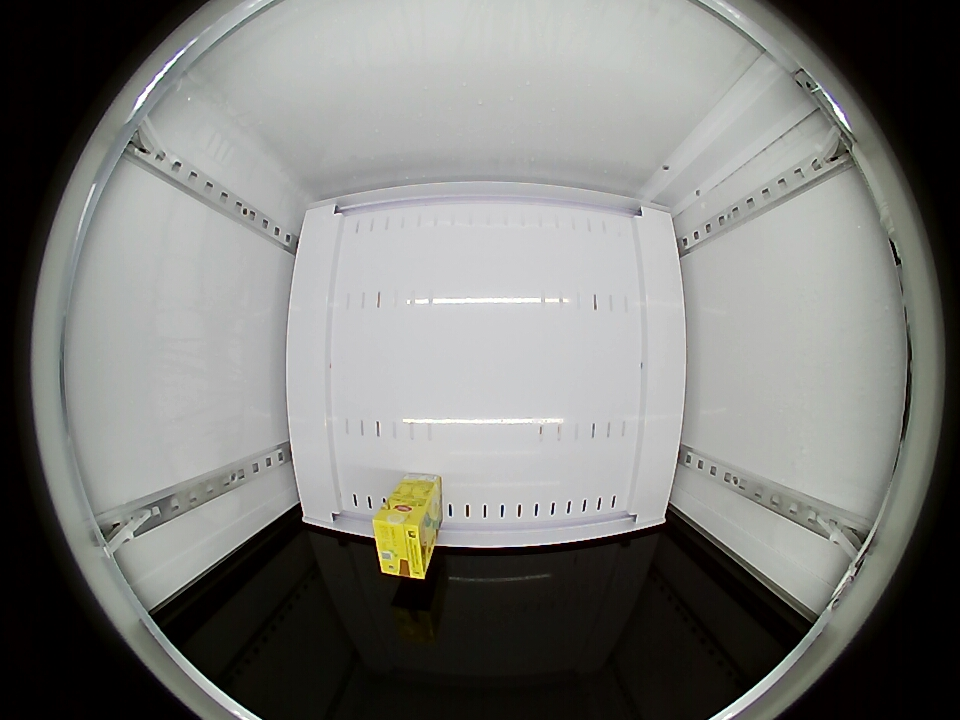weitaningmeng: (373, 504, 433, 578)
